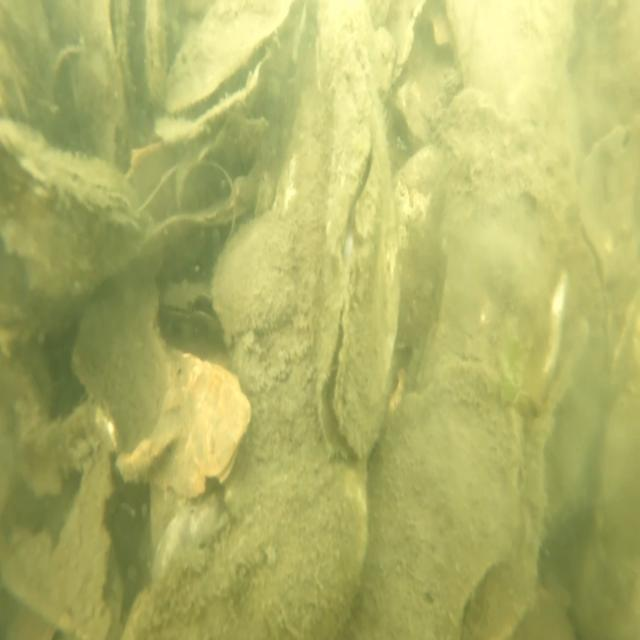Oyster-Closed: (426, 96, 610, 557), (124, 462, 368, 640), (78, 282, 251, 506), (0, 117, 146, 296)
Oyster-Indeterminate: (358, 350, 519, 640)
Oyster-Open: (314, 42, 400, 470), (154, 0, 299, 149), (173, 109, 277, 228), (157, 272, 224, 334)
